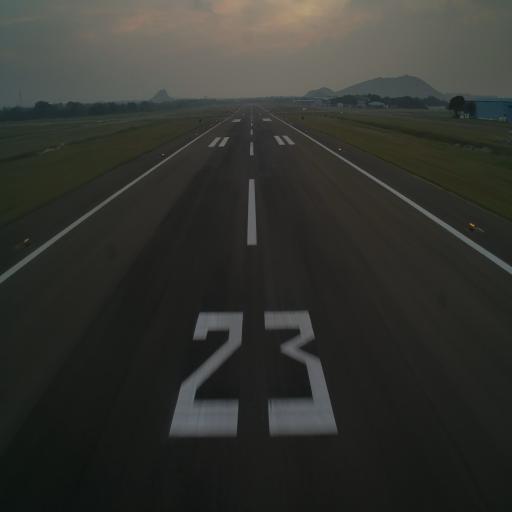on: (22, 236, 30, 250), (468, 218, 475, 232), (338, 144, 342, 153), (161, 150, 165, 158)
